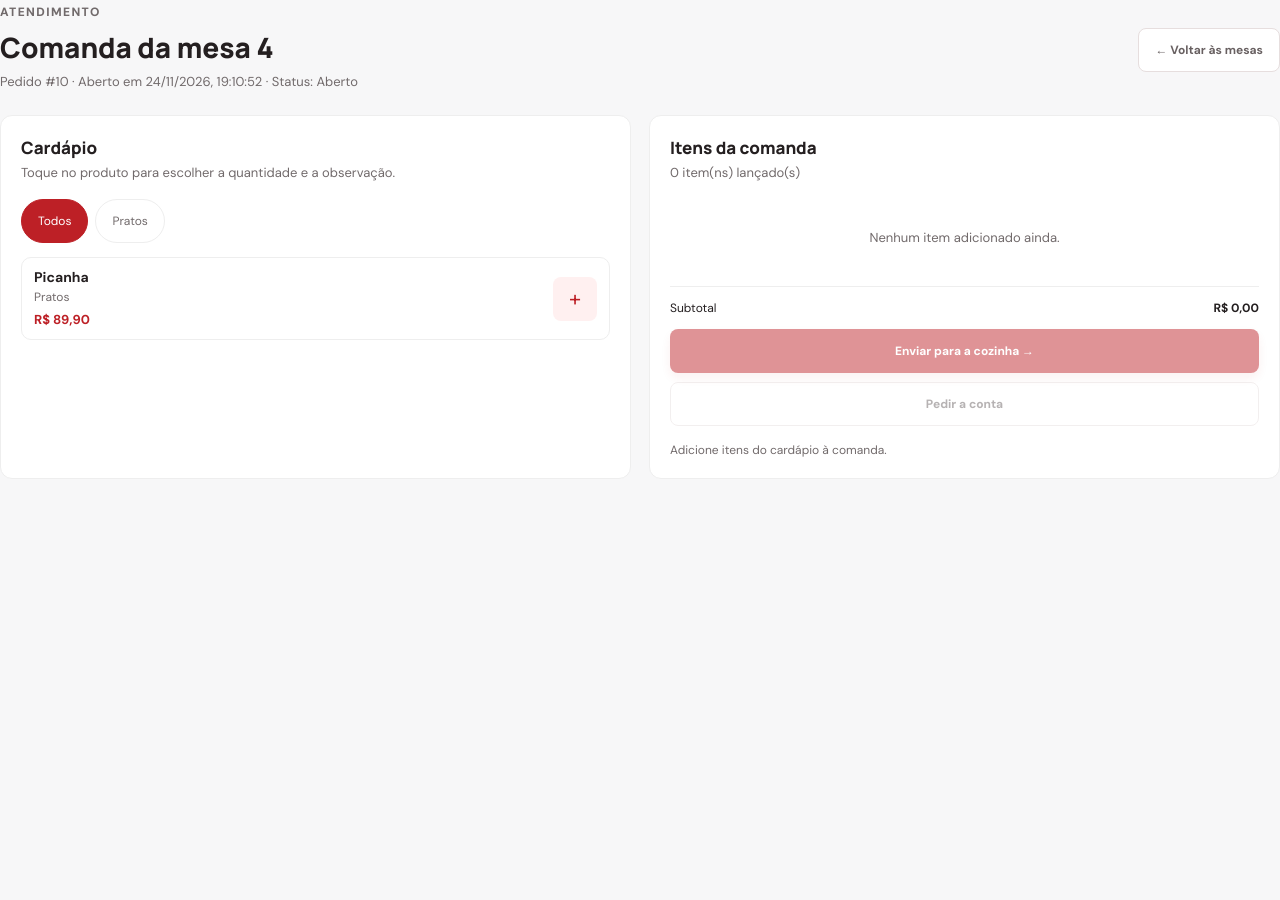
Test: Limite de itens por lançamento (RN-21, spec 022) › garçom: o seletor para no limite e mostra a dica
This screenshot has width=1280, height=900.
Click the button "Picanha Pratos R$ 89,90 +".
click(61, 277)  # box [21,257,610,340]
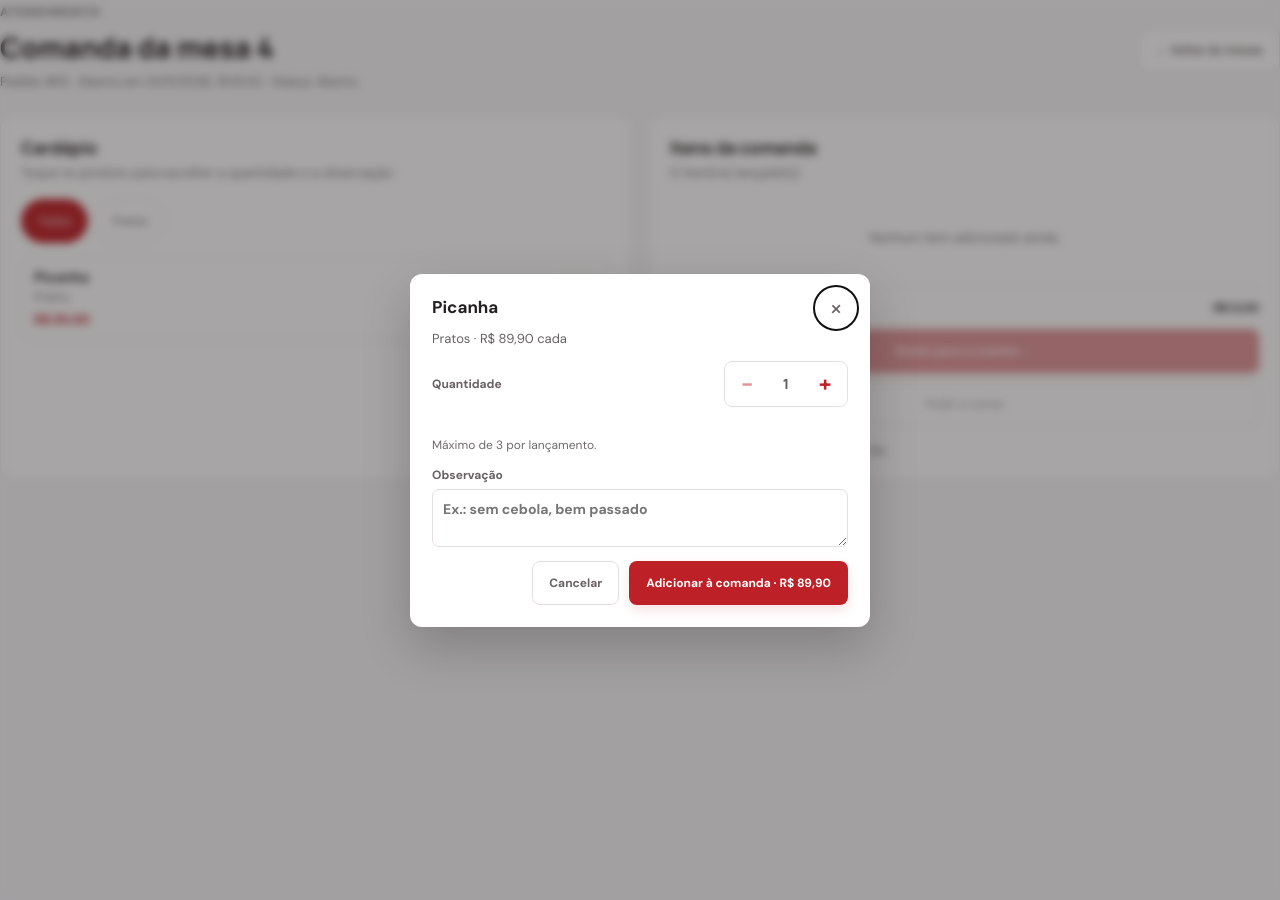
Expected: the text "Máximo de 3 por lançamento." is shown, [432,436,596,452]
Click the button named "Aumentar quantidade".
click(825, 384)  # box [803,362,847,406]
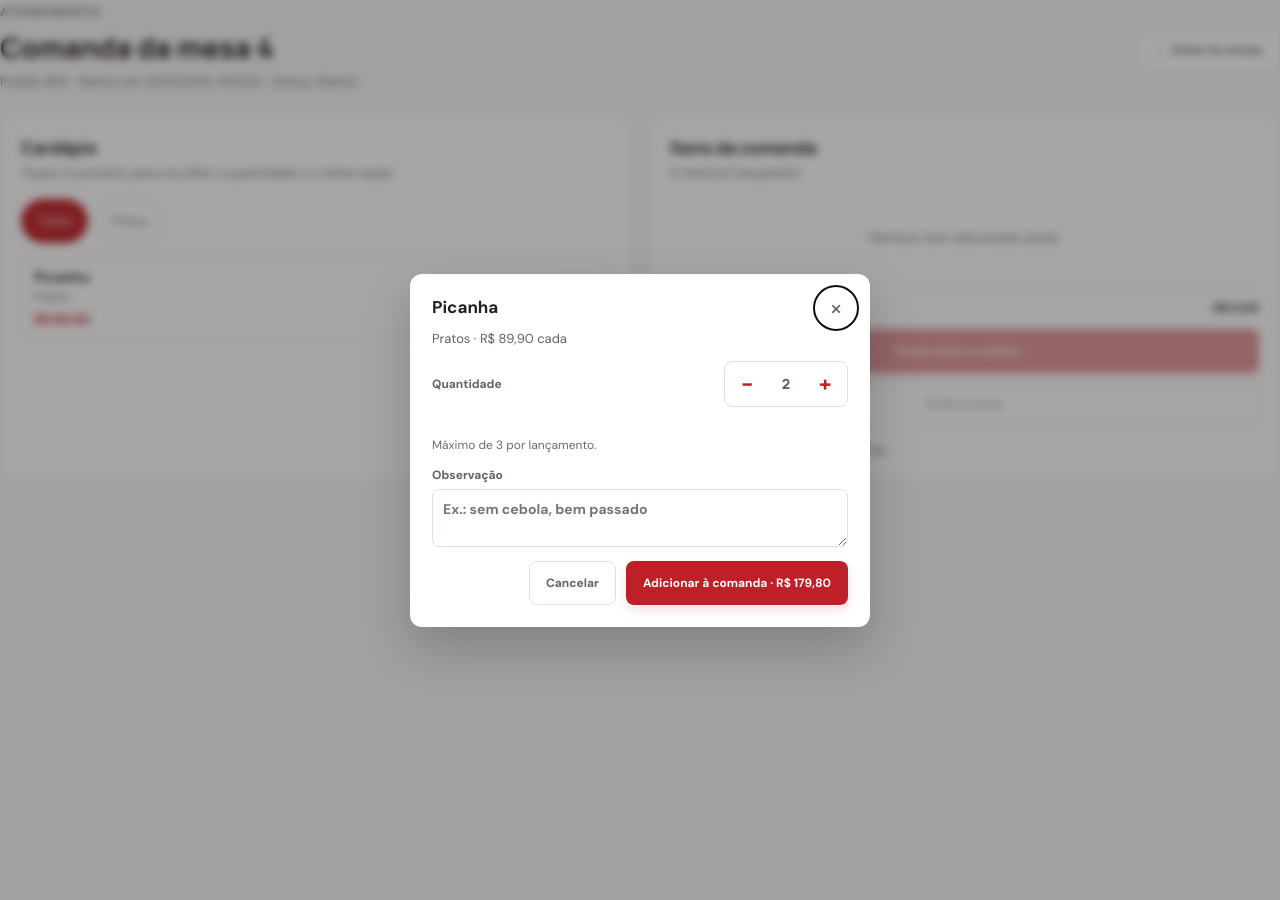
Click the button named "Aumentar quantidade".
click(825, 384)  # box [803,362,847,406]
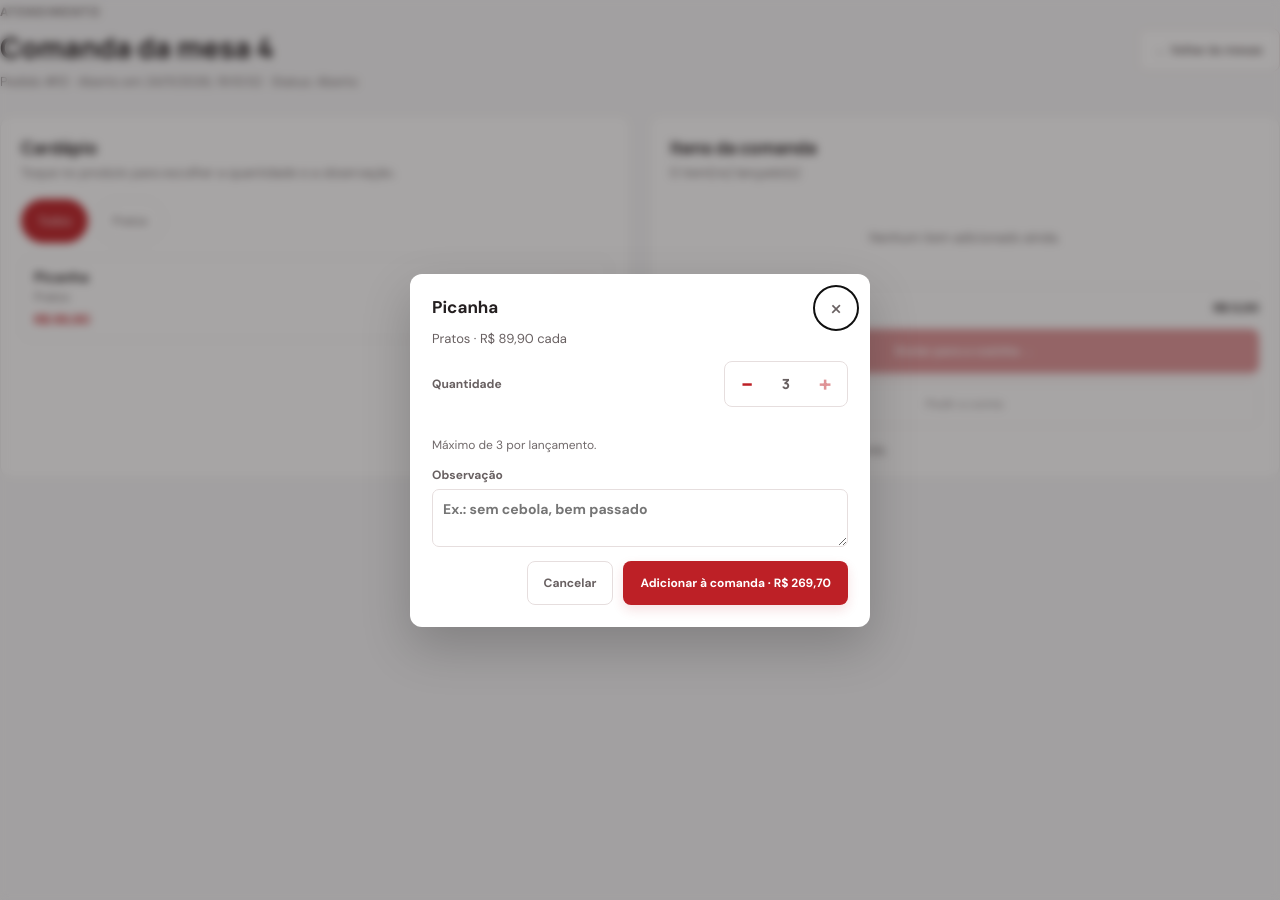
Expected: the text "3" is shown, [782,374,790,393]
Expected: the button named "Aumentar quantidade" is disabled, [803,362,847,406]
